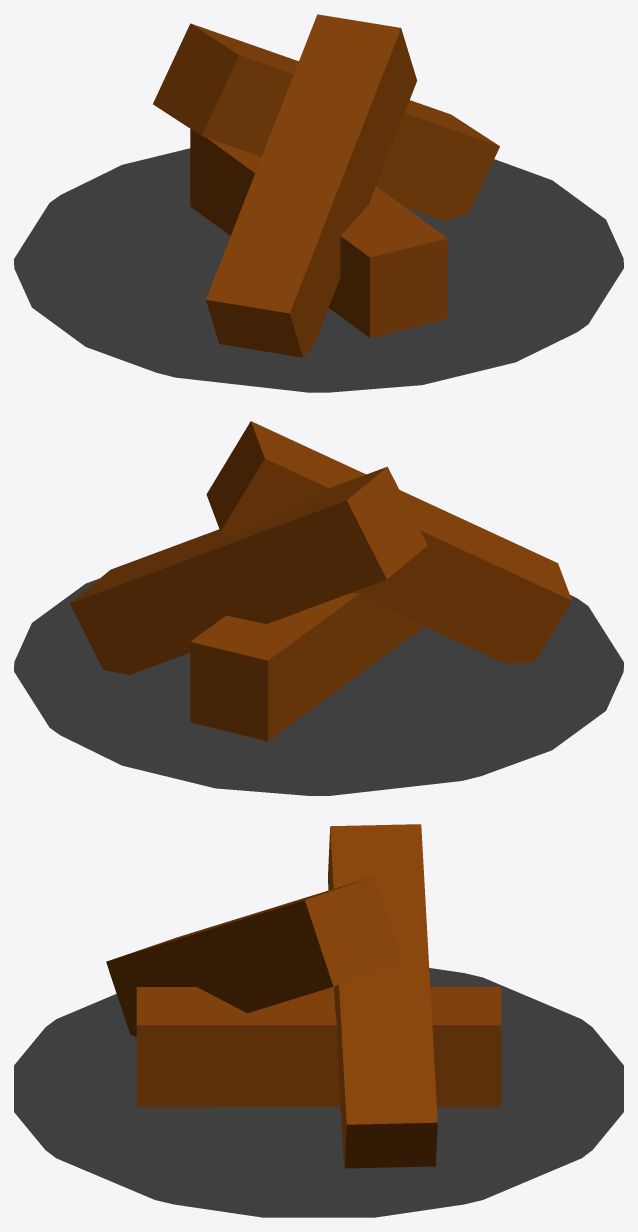
The model's file is Campfire.fbx.
The picture shows the model from 3 angles, top to bottom: view 1: azimuth 30°, elevation 25°; view 2: azimuth 150°, elevation 25°; view 3: azimuth 270°, elevation 25°; orthographic projection.
Parts seen in each view (by area): view 1: Mball, Cube.002, Cube.001, Cube; view 2: Mball, Cube.001, Cube.002, Cube; view 3: Mball, Cube, Cube.001, Cube.002.
Boxes of the visible parts, x1,y1,x2,y2 form: Mball: (14, 148, 623, 392); Cube.002: (206, 14, 417, 357); Cube.001: (153, 23, 499, 220); Cube: (190, 129, 447, 337); Mball: (14, 578, 623, 795); Cube.001: (70, 466, 427, 675); Cube.002: (206, 421, 571, 663); Cube: (190, 592, 424, 741); Mball: (14, 968, 623, 1217); Cube: (136, 987, 501, 1107); Cube.001: (328, 824, 437, 1168); Cube.002: (106, 876, 404, 1037).
Size of the model in its own units: 669 by 287 by 669.
